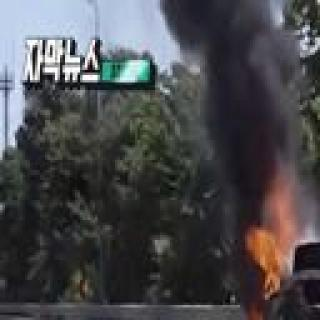fire: (252, 212, 296, 286), (250, 317, 271, 320)
